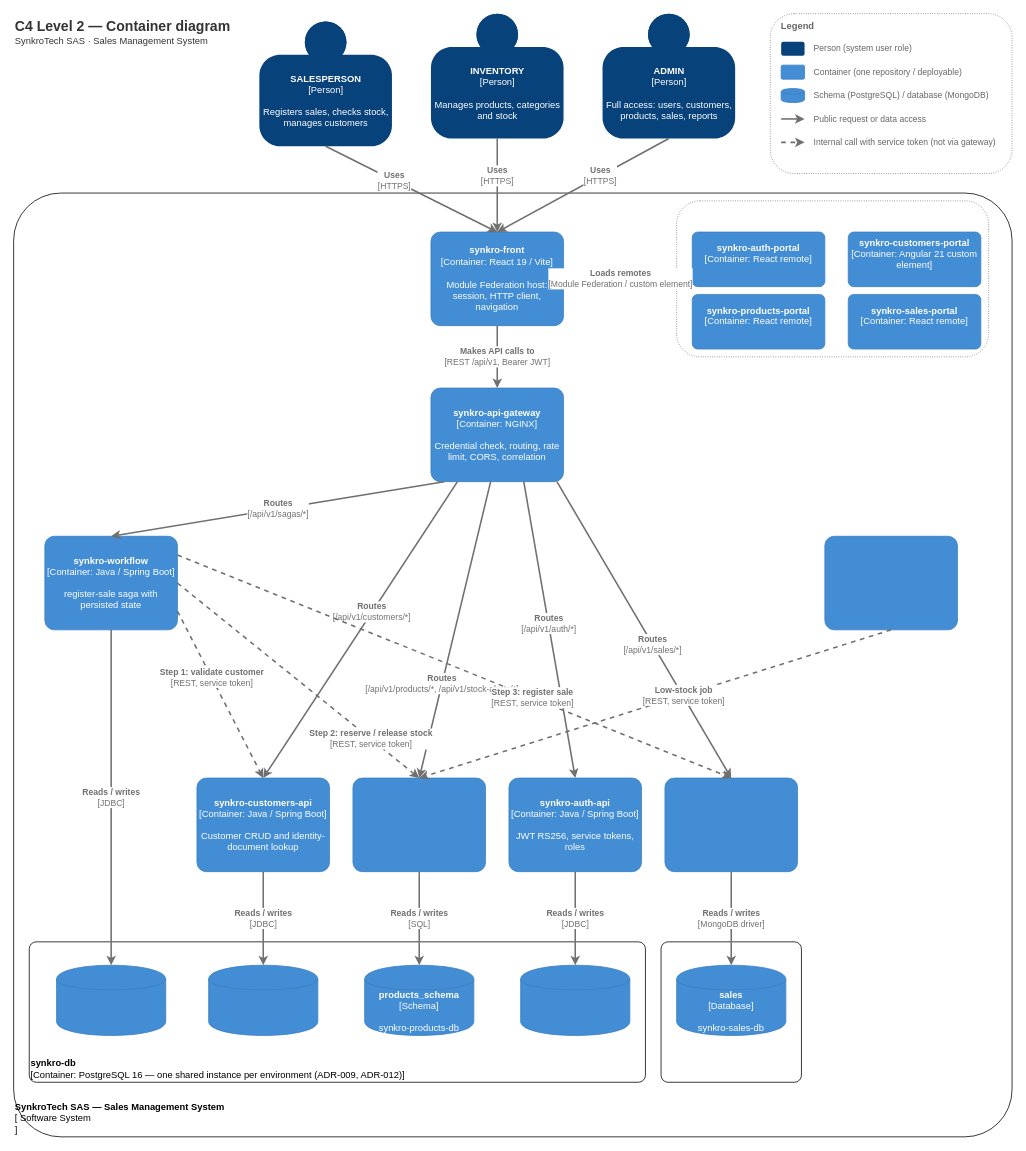
This 1026x1151 diagram has some shape labels left out. The shapes that lost their labels are listed below. From the top down, each one's box as (x1, y1, x2, y2) in pixels, then its label:
(676, 200, 989, 357): Domain portals — 3 Module Federation remotes + 1 Angular custom element
(824, 535, 957, 630): synkro-worker [Container: Go] Scheduled low-stock alert job
(352, 777, 486, 872): synkro-products-api [Container: Go] Catalog, stock, reservations, alerts
(664, 777, 798, 872): synkro-sales-api [Container: Go] Sale persistence, queries and reports
(56, 964, 166, 1035): workflow_schema [Schema] owned by synkro-workflow
(208, 964, 318, 1035): customers_schema [Schema] synkro-customers-db
(520, 964, 630, 1035): auth_schema [Schema] synkro-auth-db
(660, 941, 801, 1082): synkro-mongo [Container: MongoDB 7.0 — one instance per environment (ADR-010)]
